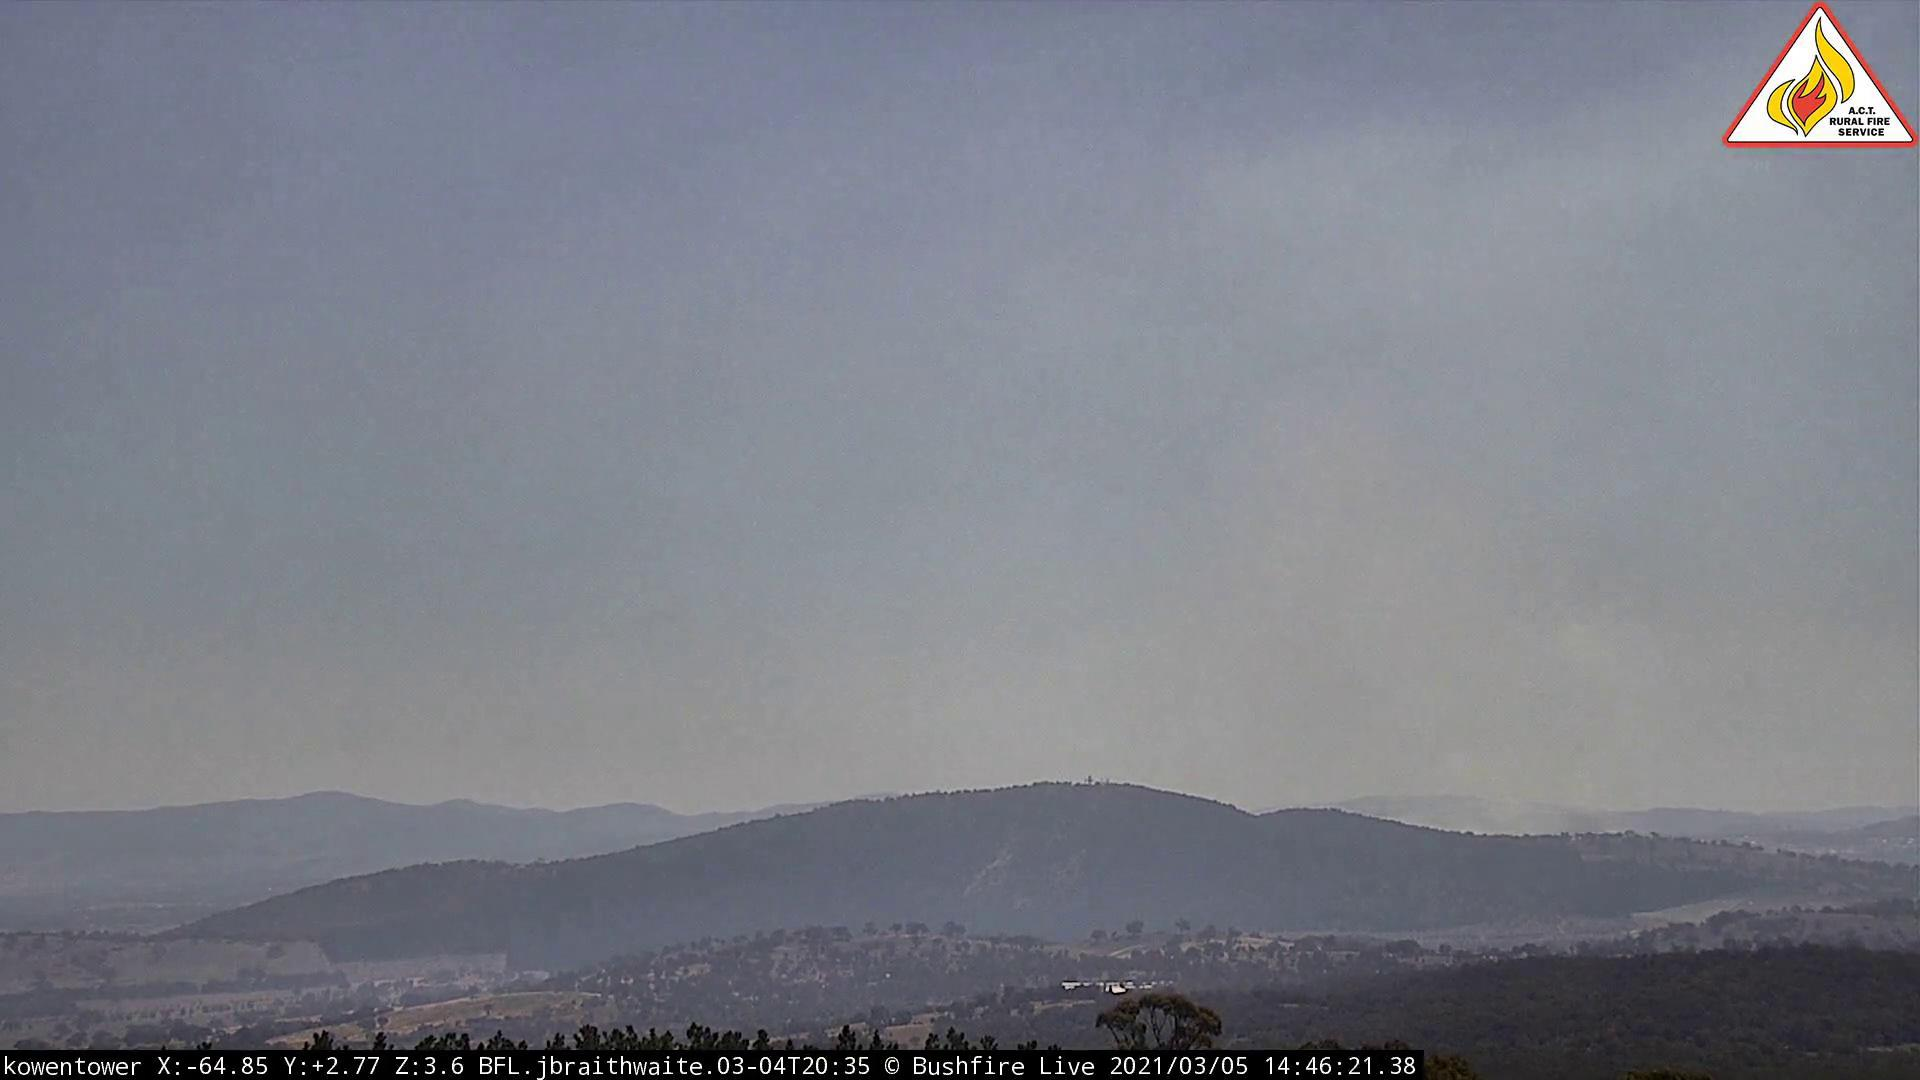Smoke: (1226, 417, 1642, 844)
